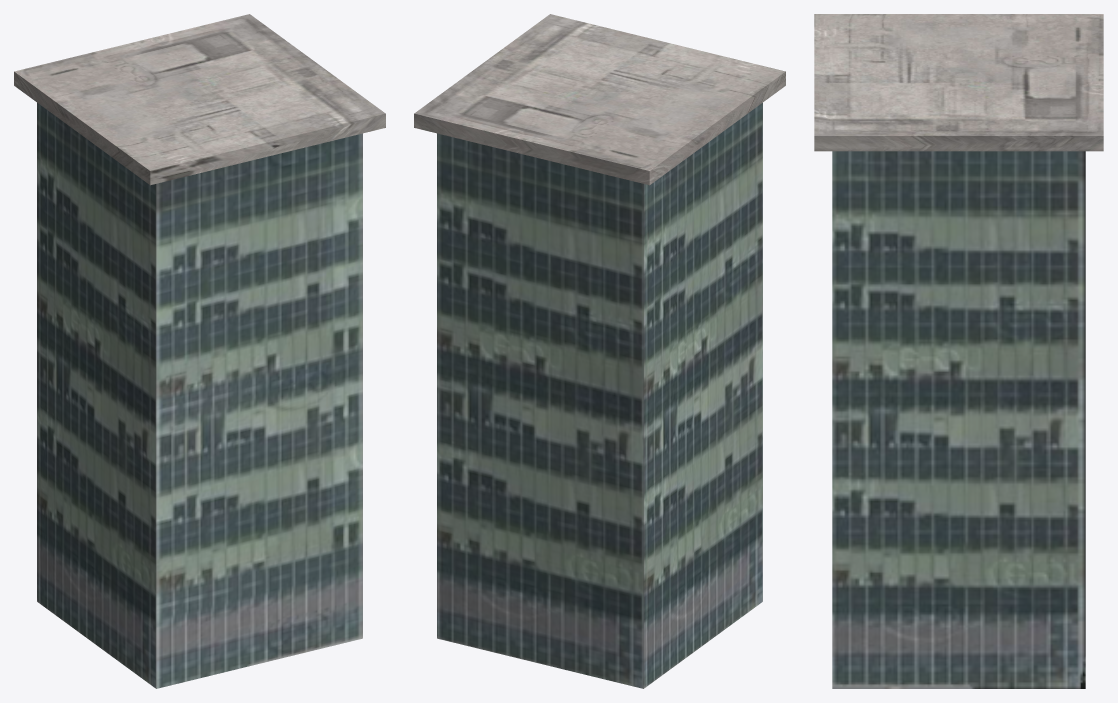
File: skyscraper1.gltf
The picture shows the model from 3 angles, left to right: view 1: azimuth 30°, elevation 25°; view 2: azimuth 150°, elevation 25°; view 3: azimuth 270°, elevation 25°; orthographic projection. The views are drawn at different scales.
Parts seen in each view (by area): view 1: Cube; view 2: Cube; view 3: Cube.
Part boxes in pixels (box(x1,y1,x2,y2)): Cube: box(14, 14, 385, 688); Cube: box(414, 14, 785, 688); Cube: box(814, 14, 1103, 688).
Size of the model in its own units: 48.33 by 103 by 48.33.
1 material, 1 textured.
